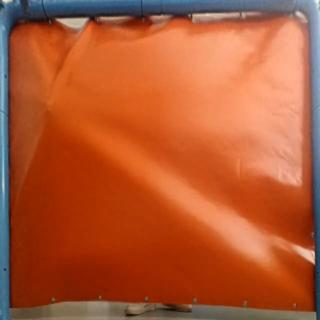Hit-hRxx: (42, 97, 57, 112)
